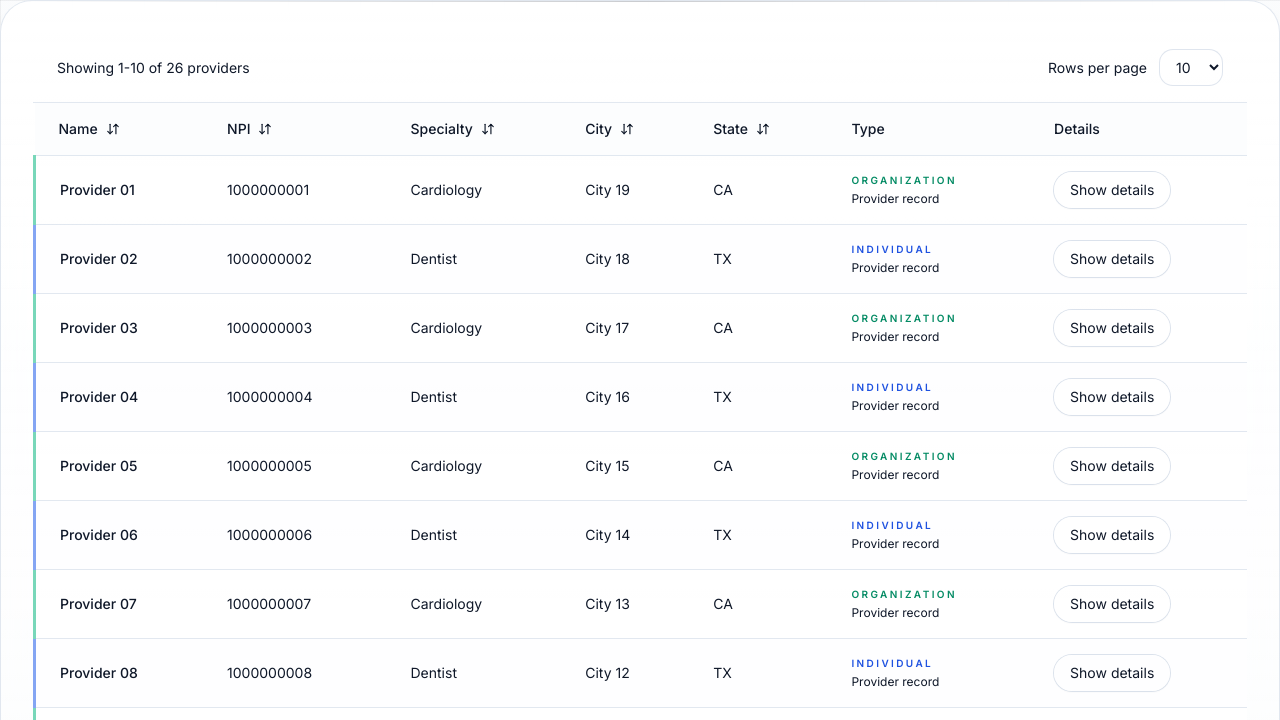
Scenario: ResultsTable › expands provider rows and supports page-size changes
Click the button "Show details" in the row of "Provider 01": (1112, 190) top-left (1054, 172), bottom-right (1170, 208)
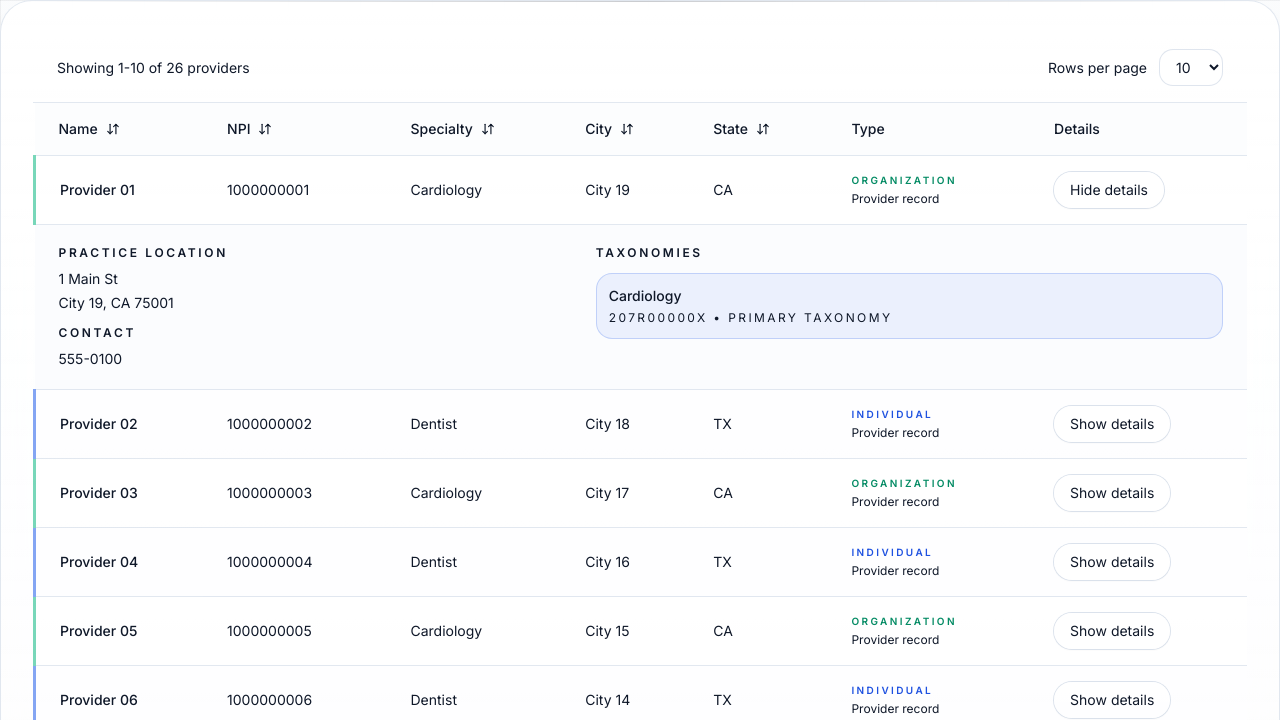
Now the text "Practice location" is shown, box top-left (58, 245), bottom-right (228, 260)
Now the text "207R00000X • primary taxonomy" is shown, box top-left (609, 310), bottom-right (892, 325)
Select "25" in the dropdown labelled "Rows per page": (1191, 68) top-left (1159, 49), bottom-right (1223, 86)
(page scrolled)
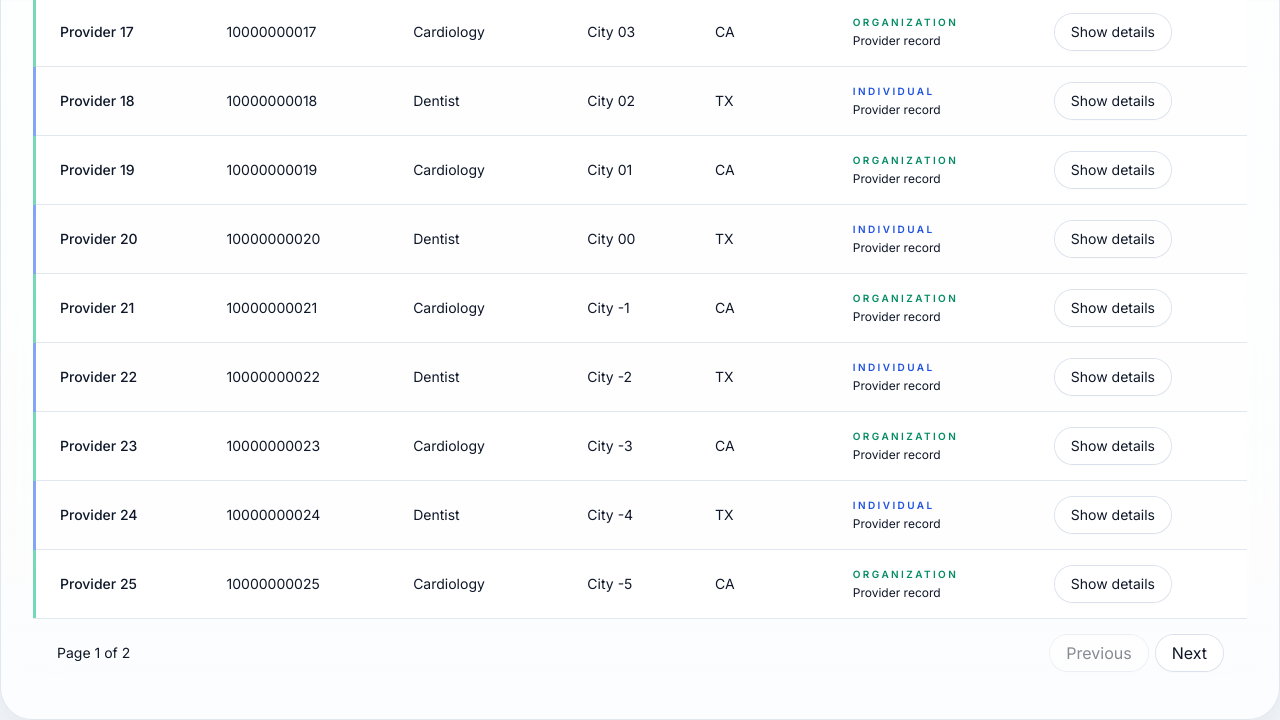
Now the text "Page 1 of 2" is shown, box top-left (57, 643), bottom-right (130, 663)
Now the text "Provider 25" is shown, box top-left (34, 550), bottom-right (202, 618)
